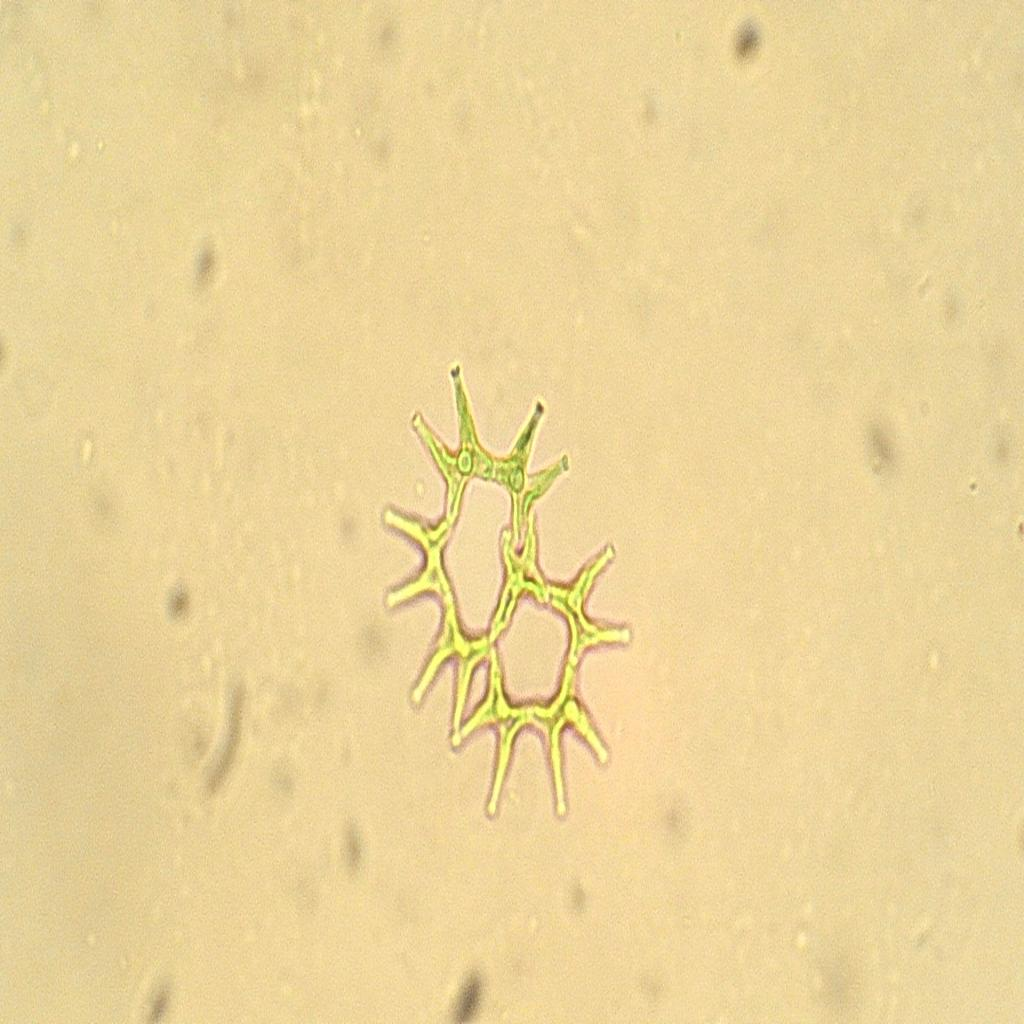Pediastrum_CFI: (369, 342, 655, 853)
